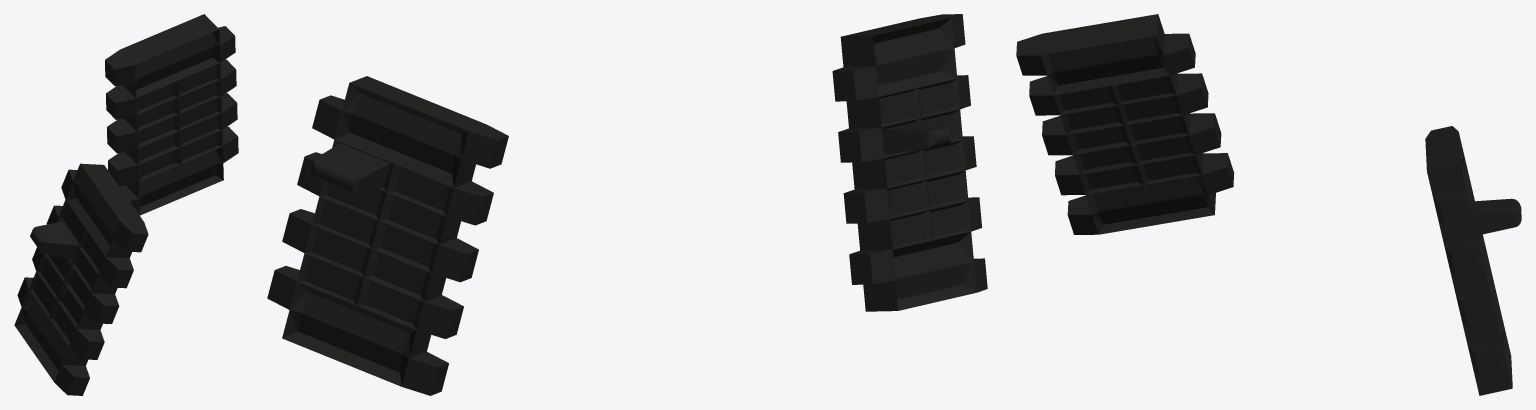
The model's file is t34_85_turret_m1.obj.
3 views of the same model, side by side, from view 1: azimuth 30°, elevation 25°; view 2: azimuth 150°, elevation 25°; view 3: azimuth 270°, elevation 25° (orthographic). The views are drawn at different scales.
Visible parts, largest first — view 1: t34_85_turret_m1; view 2: t34_85_turret_m1; view 3: t34_85_turret_m1.
Boxes of the visible parts, x1,y1,x2,y2 form: t34_85_turret_m1: (14, 14, 238, 395); t34_85_turret_m1: (267, 14, 987, 395); t34_85_turret_m1: (1016, 14, 1521, 395).
Size of the model in its own units: 0.8332 by 0.4634 by 0.8844.
Materials: 1 (1 with a texture image).
